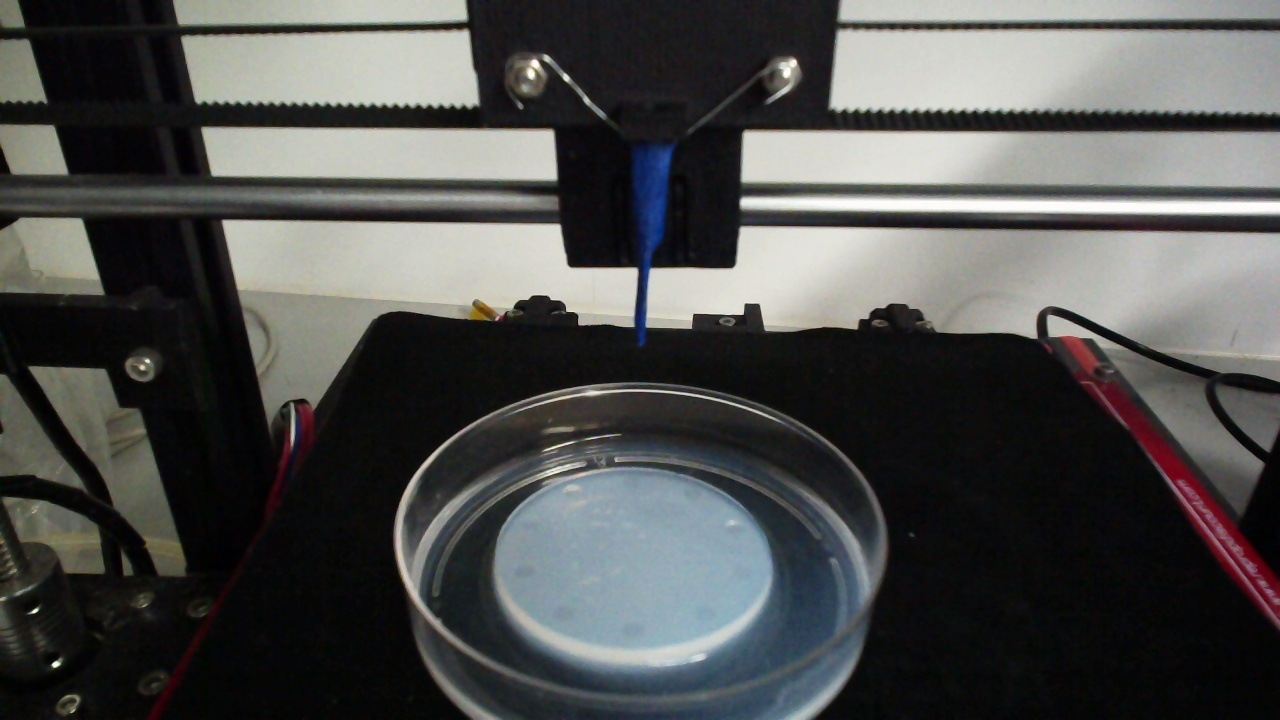groove: (690, 604, 719, 622), (730, 562, 757, 580), (722, 519, 746, 537), (551, 607, 576, 624), (620, 622, 645, 639), (513, 563, 536, 581), (517, 515, 540, 531), (620, 473, 642, 489), (683, 486, 702, 501), (563, 483, 583, 497)
needle: (632, 146, 669, 348)
